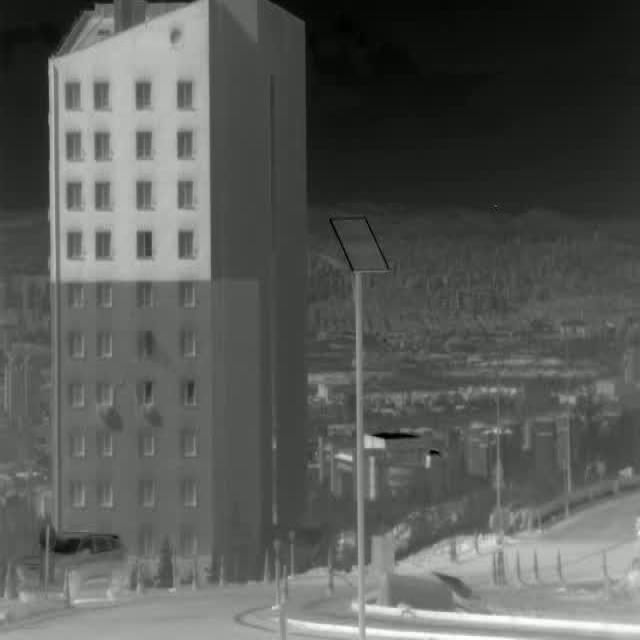Car: (7, 529, 128, 610)
